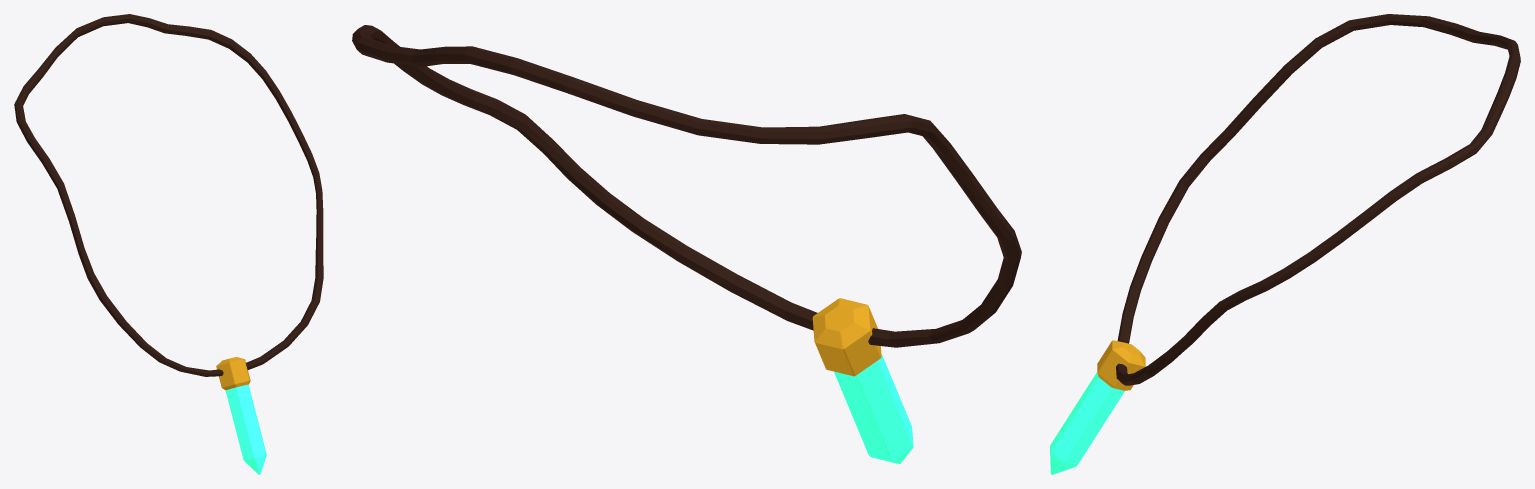
File: necklace3.glb
3 views of the same model, side by side, from view 1: azimuth 30°, elevation 25°; view 2: azimuth 150°, elevation 25°; view 3: azimuth 270°, elevation 25° (orthographic). The views are drawn at different scales.
Visible parts, largest first — view 1: Necklace3; view 2: Necklace3; view 3: Necklace3.
Boxes of the visible parts, bbox=[...] form: Necklace3: bbox=[14, 14, 323, 474]; Necklace3: bbox=[352, 25, 1021, 463]; Necklace3: bbox=[1050, 14, 1520, 474].
Bounding box in the file's own units: 85.37 × 101 × 99.93.
